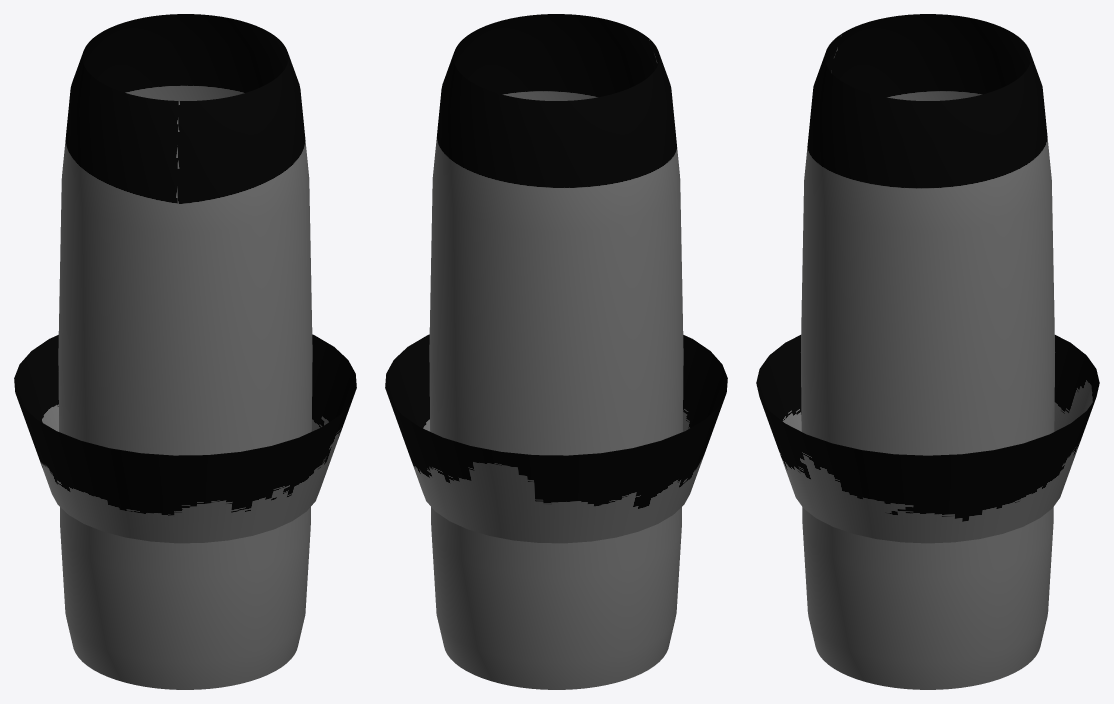
File: Save.fbx
The picture shows the model from 3 angles, left to right: view 1: azimuth 30°, elevation 25°; view 2: azimuth 150°, elevation 25°; view 3: azimuth 270°, elevation 25°; orthographic projection.
Visible parts, largest first — view 1: Circle.002, Circle.001; view 2: Circle.002, Circle.001; view 3: Circle.002, Circle.001.
Boxes of the visible parts, bbox=[...] form: Circle.002: bbox=[58, 14, 312, 689]; Circle.001: bbox=[14, 334, 356, 543]; Circle.002: bbox=[429, 14, 683, 689]; Circle.001: bbox=[385, 334, 727, 543]; Circle.002: bbox=[800, 14, 1055, 689]; Circle.001: bbox=[756, 335, 1099, 543].
Bounding box in the file's own units: 198 × 372 × 198.
Materials: 3 (3 with a texture image).
